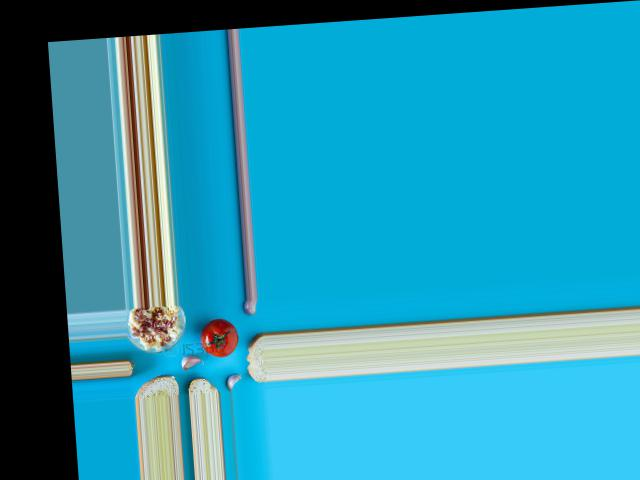tomato: (201, 317, 240, 358)
